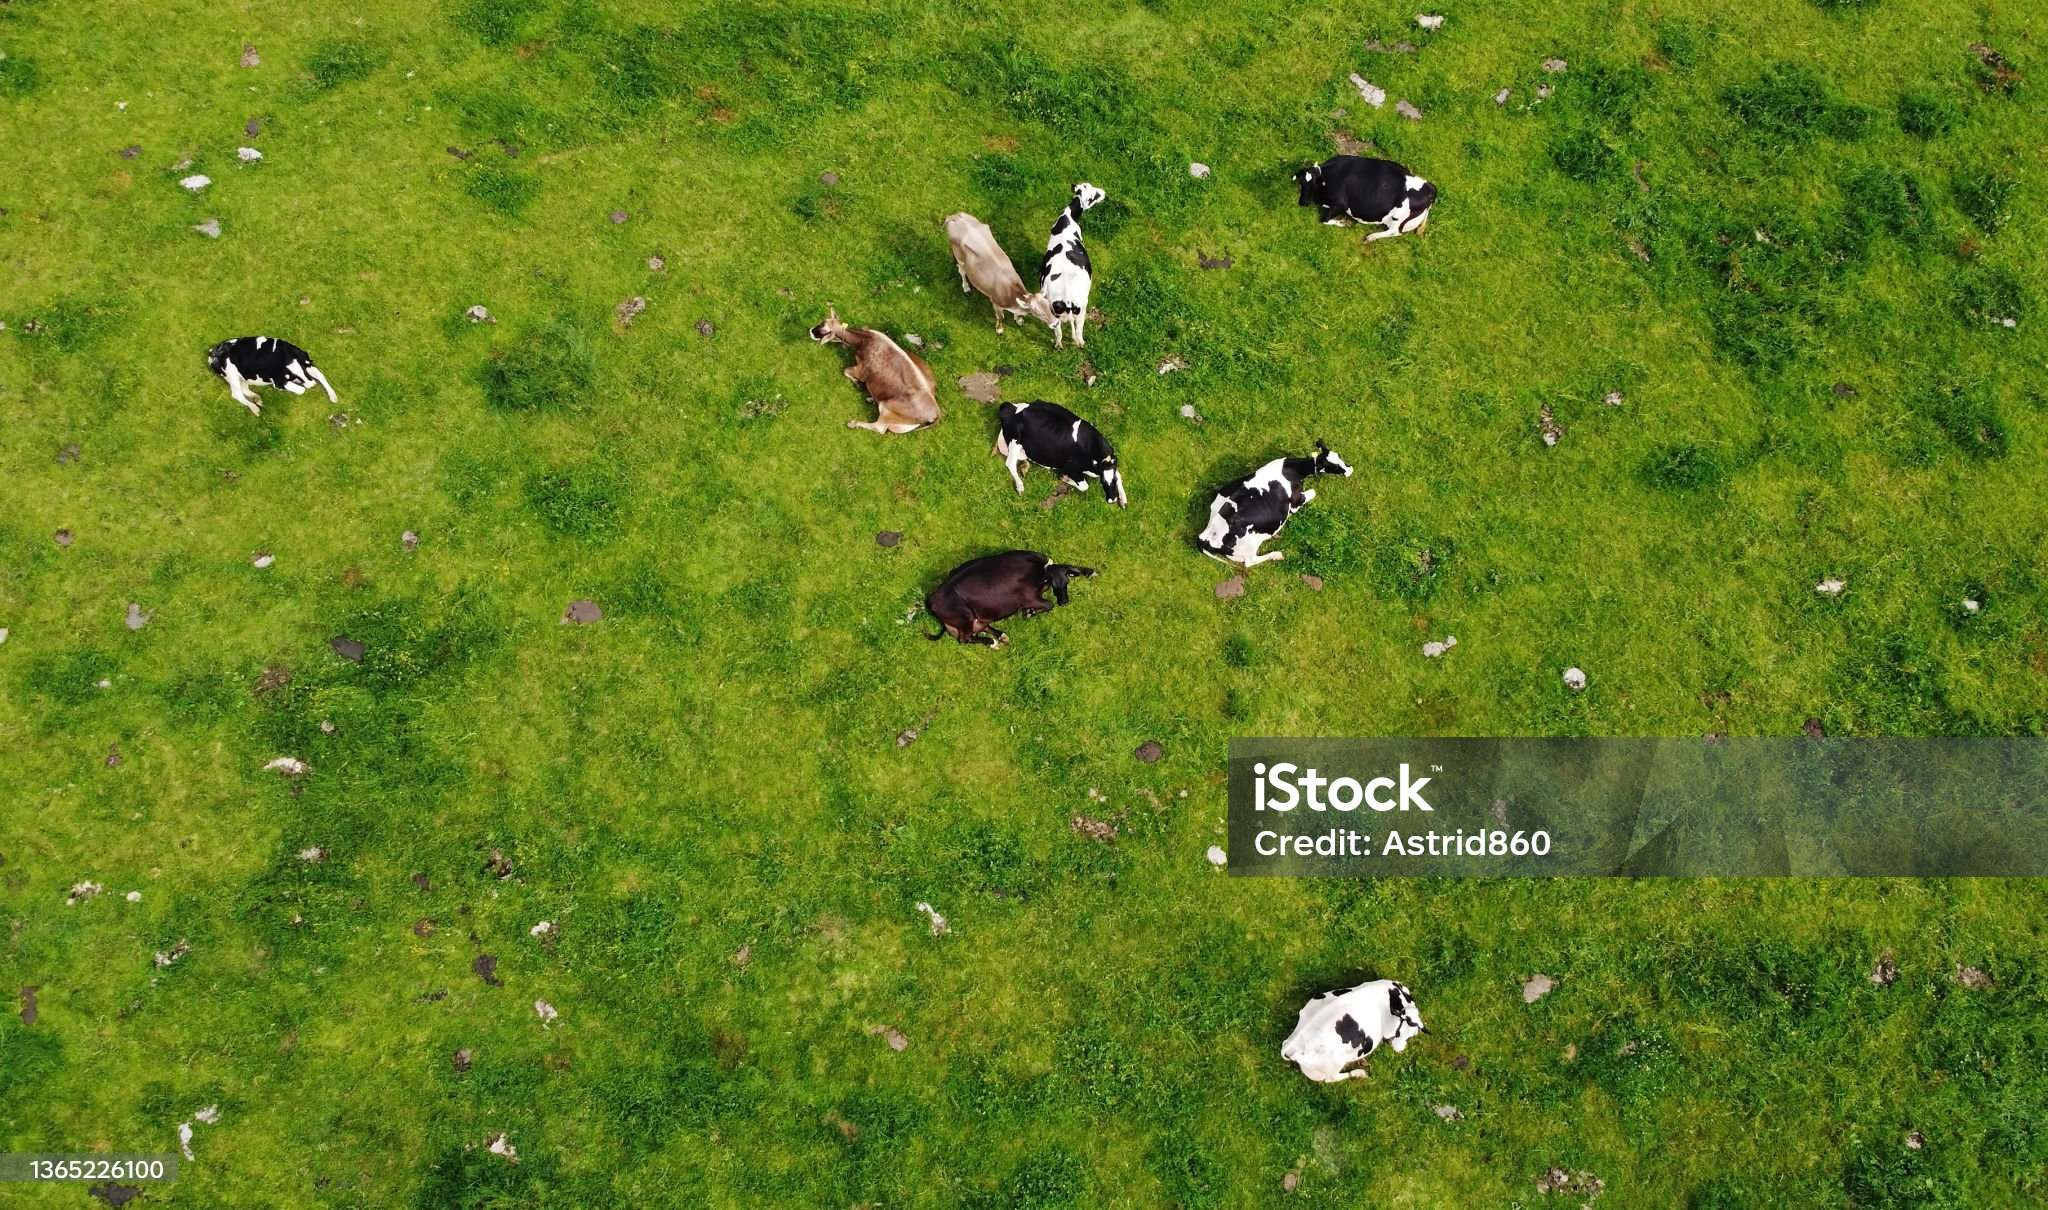cattle: (1181, 421, 1360, 595), (981, 390, 1139, 537), (920, 184, 1059, 351), (804, 297, 955, 448), (1267, 962, 1439, 1092), (923, 542, 1110, 660), (1290, 128, 1445, 269), (1038, 181, 1123, 354), (196, 331, 340, 422)
